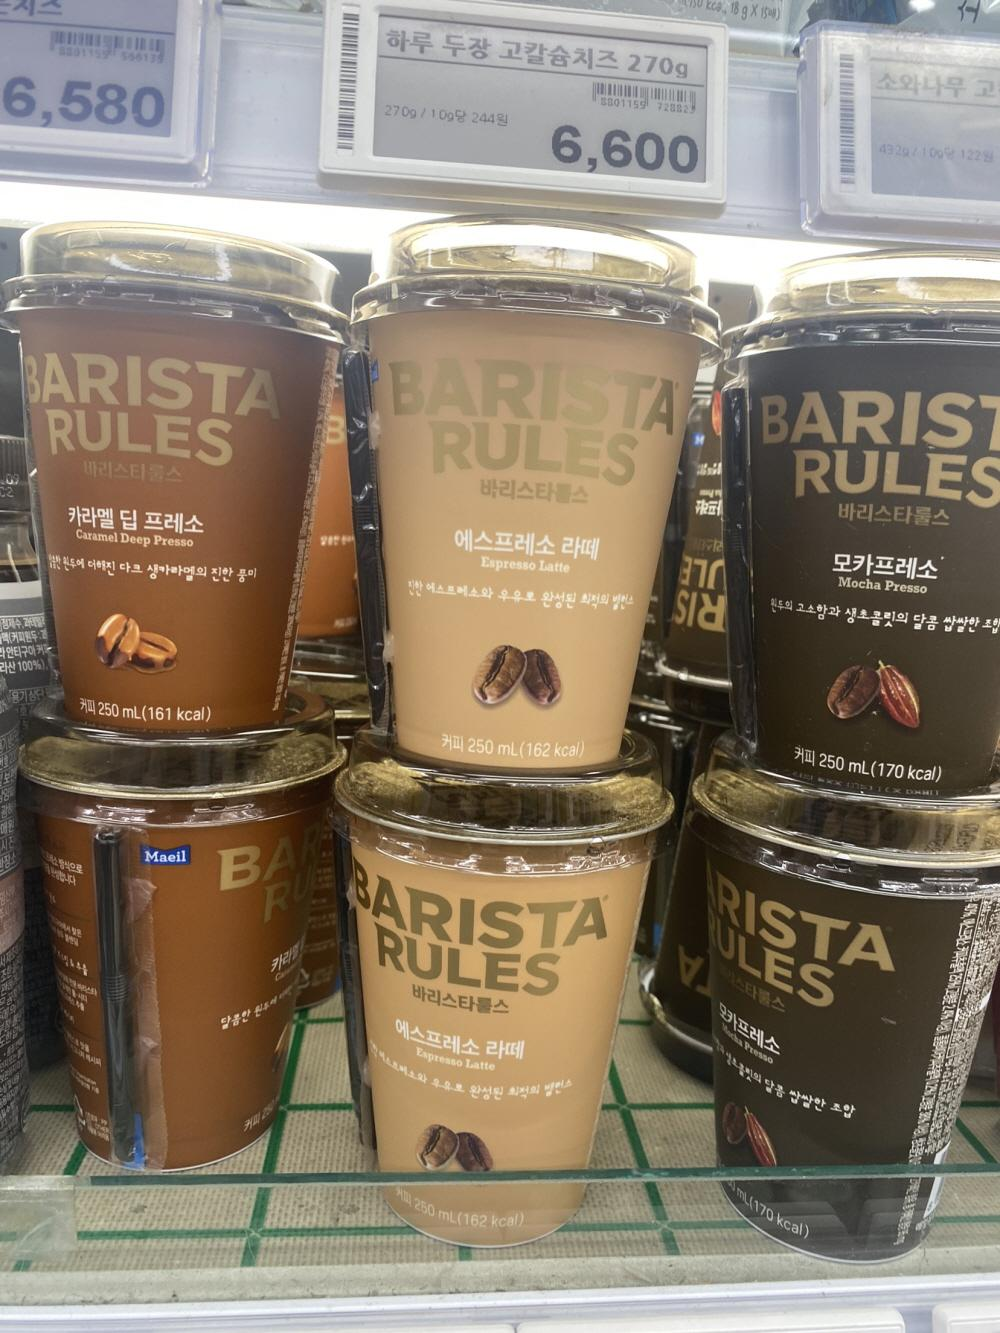baristarules_espressolatte: (338, 217, 731, 787), (331, 791, 685, 1252)
